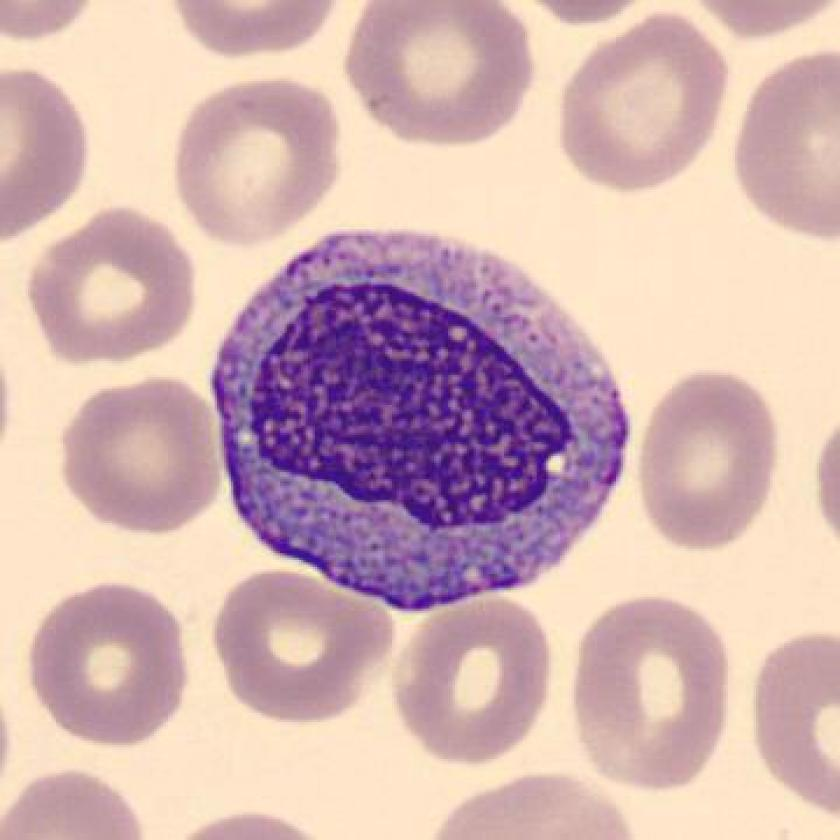monocyte: (207, 212, 648, 617)
